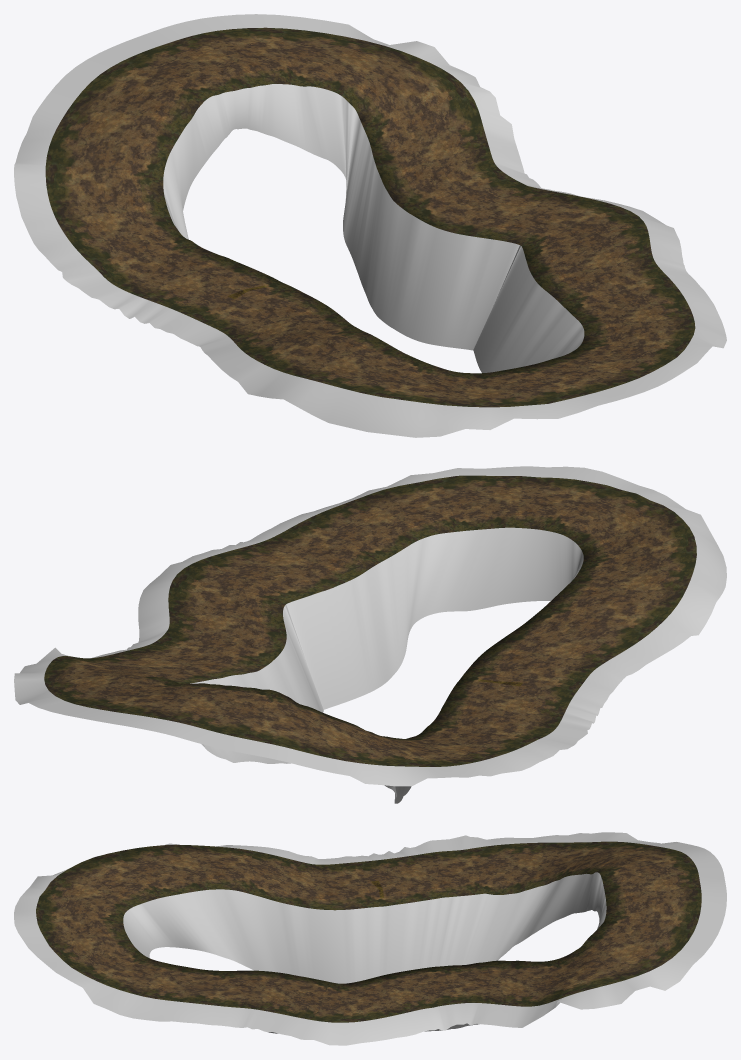
File: finalroad.fbx
3 views of the same model, one above another, from view 1: azimuth 30°, elevation 25°; view 2: azimuth 150°, elevation 25°; view 3: azimuth 270°, elevation 25° (orthographic). The views are drawn at different scales.
Visible parts, largest first — view 1: pCube8; view 2: pCube8; view 3: pCube8.
Boxes of the visible parts, left/top/right/bottom form: pCube8: left=14, top=14, right=726, bottom=437; pCube8: left=14, top=466, right=726, bottom=803; pCube8: left=14, top=832, right=726, bottom=1045.
Bounding box in the file's own units: 6688 × 2134 × 9994.
